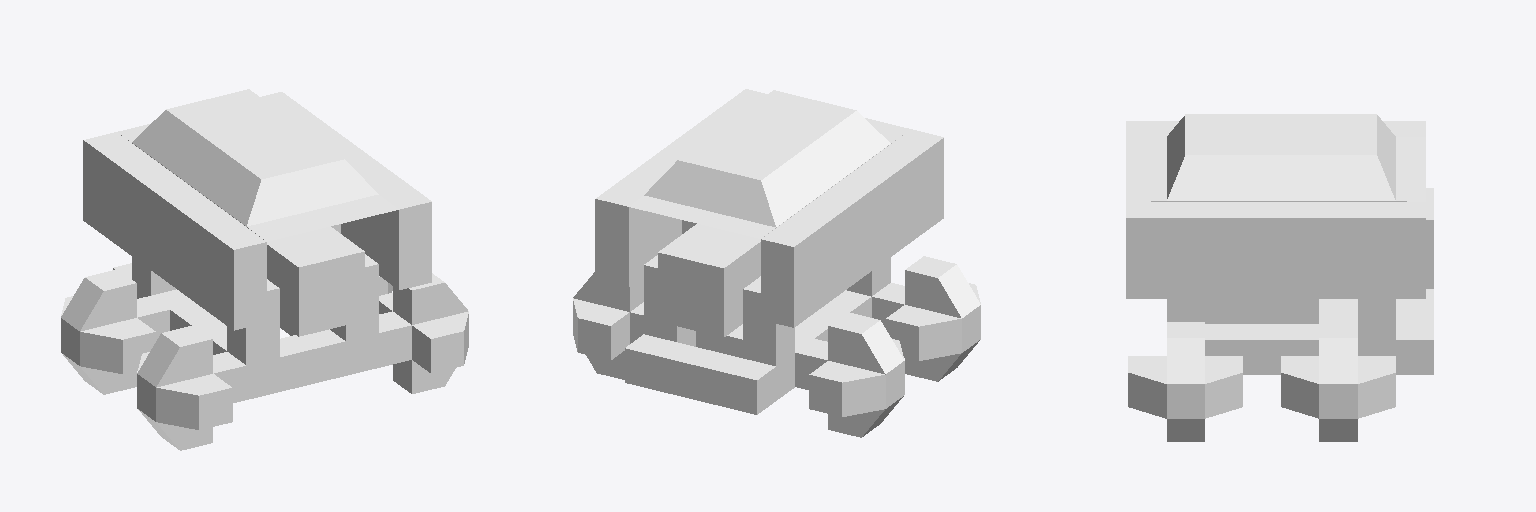
The model's file is RamMeshBig5.obj.
The picture shows the model from 3 angles: view 1: azimuth 30°, elevation 25°; view 2: azimuth 150°, elevation 25°; view 3: azimuth 270°, elevation 25°; orthographic projection.
Visible parts, largest first — view 1: RamMeshBig5; view 2: RamMeshBig5; view 3: RamMeshBig5.
Part boxes in pixels (left/top/right/bottom): RamMeshBig5: left=61, top=89, right=468, bottom=450; RamMeshBig5: left=573, top=89, right=980, bottom=437; RamMeshBig5: left=1126, top=114, right=1433, bottom=441.
Bounding box in the file's own units: 0.9455 × 0.7 × 0.8067.